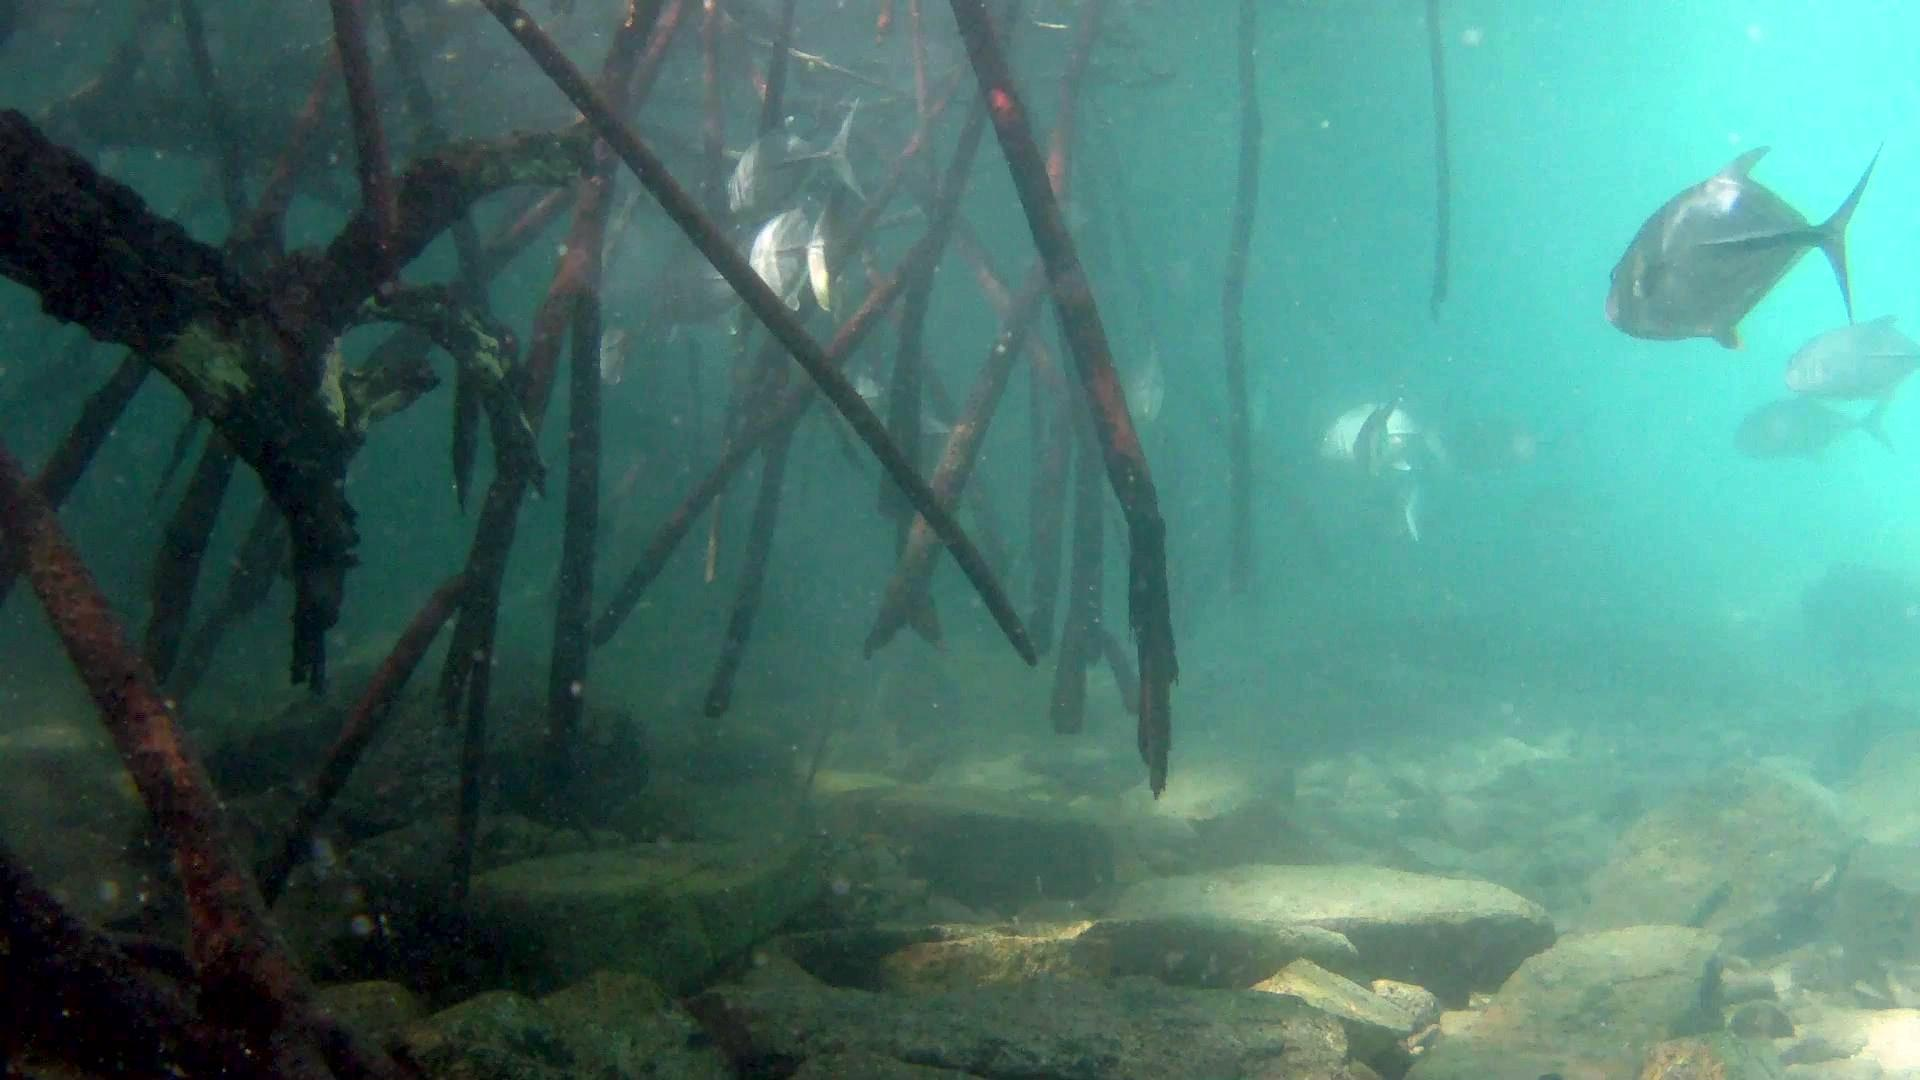caranx: (1601, 142, 1883, 357)
